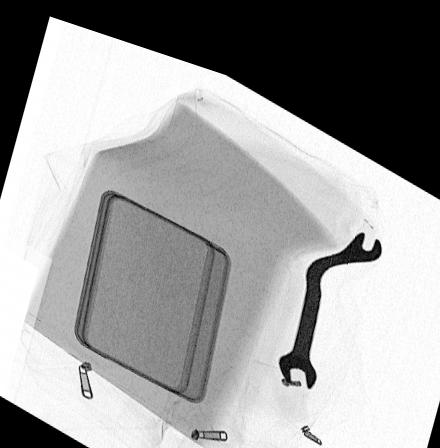Wrench: (278, 205, 384, 370)
